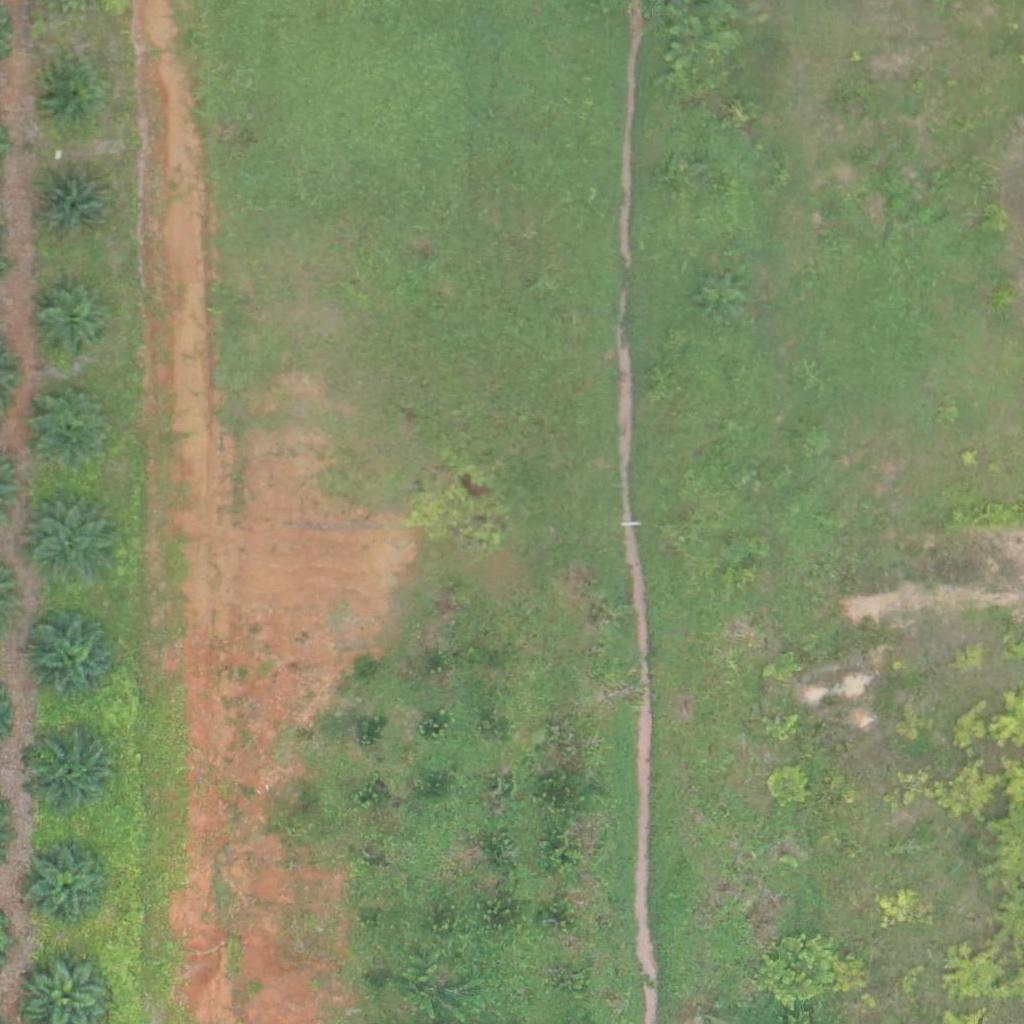Kelapa_Sawit: (21, 608, 121, 709), (27, 282, 115, 370), (29, 729, 117, 817), (25, 843, 113, 931), (31, 163, 118, 251), (27, 383, 114, 471), (27, 498, 114, 586), (36, 61, 99, 124)
